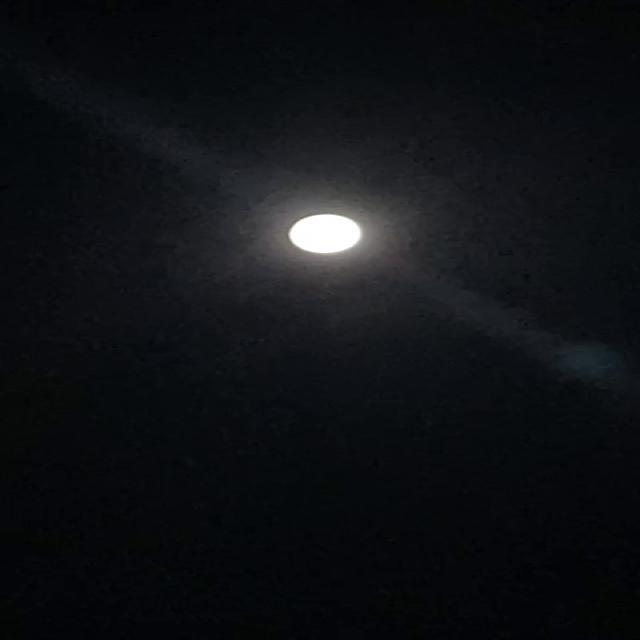moon: (256, 207, 372, 264)
